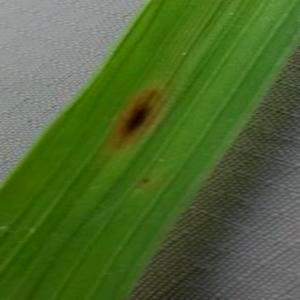0 BrownSpot: (98, 80, 174, 155), (132, 172, 158, 187)
